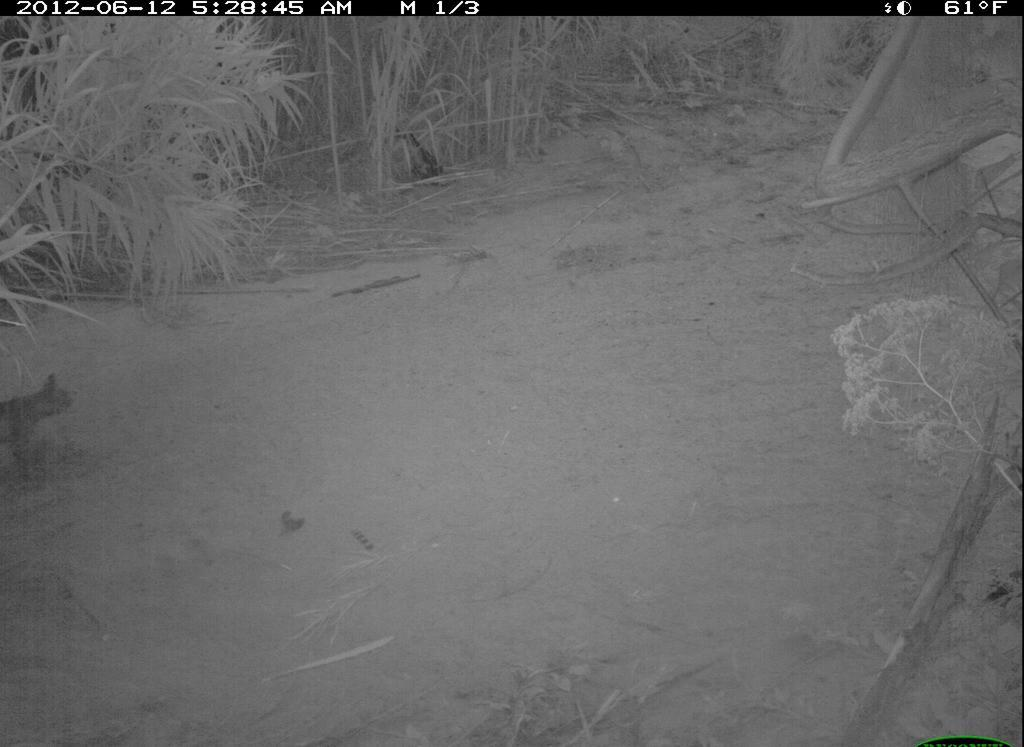bobcat: (3, 367, 88, 487)
